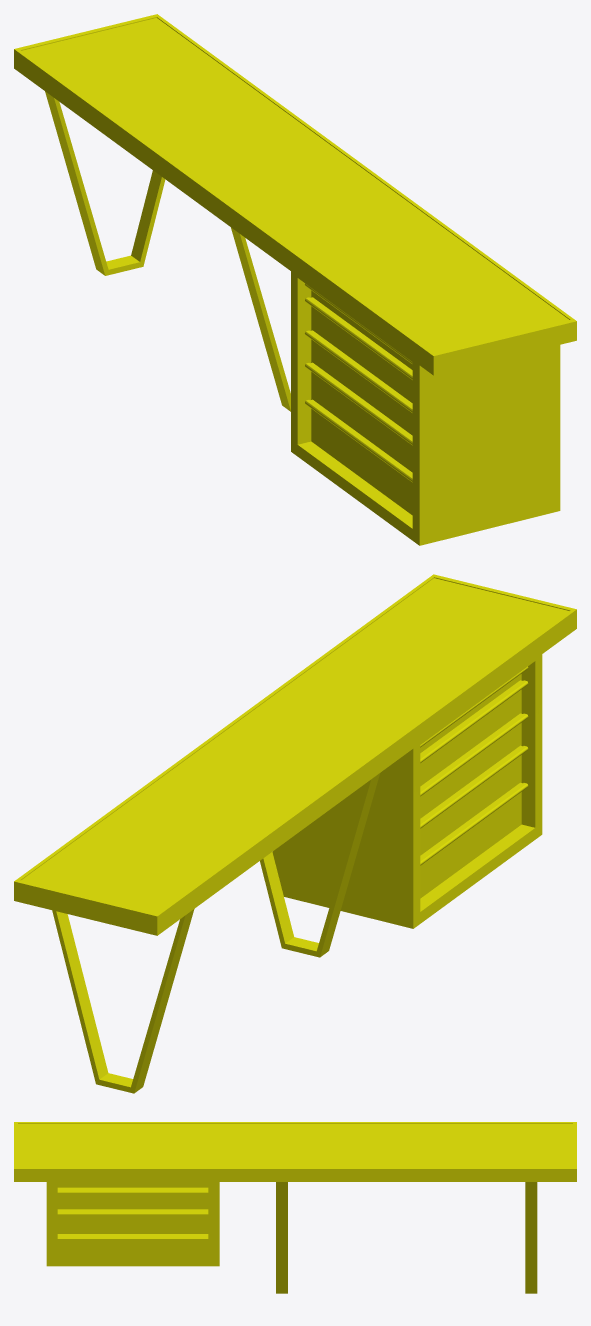
The model's file is Desk.fbx.
The picture shows the model from 3 angles, top to bottom: view 1: azimuth 30°, elevation 25°; view 2: azimuth 150°, elevation 25°; view 3: azimuth 270°, elevation 25°; orthographic projection. The views are drawn at different scales.
Visible parts, largest first — view 1: Desk; view 2: Desk; view 3: Desk.
Boxes of the visible parts, box(x1,y1,x2,y2) form: Desk: box(14, 14, 576, 545); Desk: box(14, 574, 576, 1093); Desk: box(14, 1122, 576, 1293).
Bounding box in the file's own units: 76.85 × 103 × 370.
